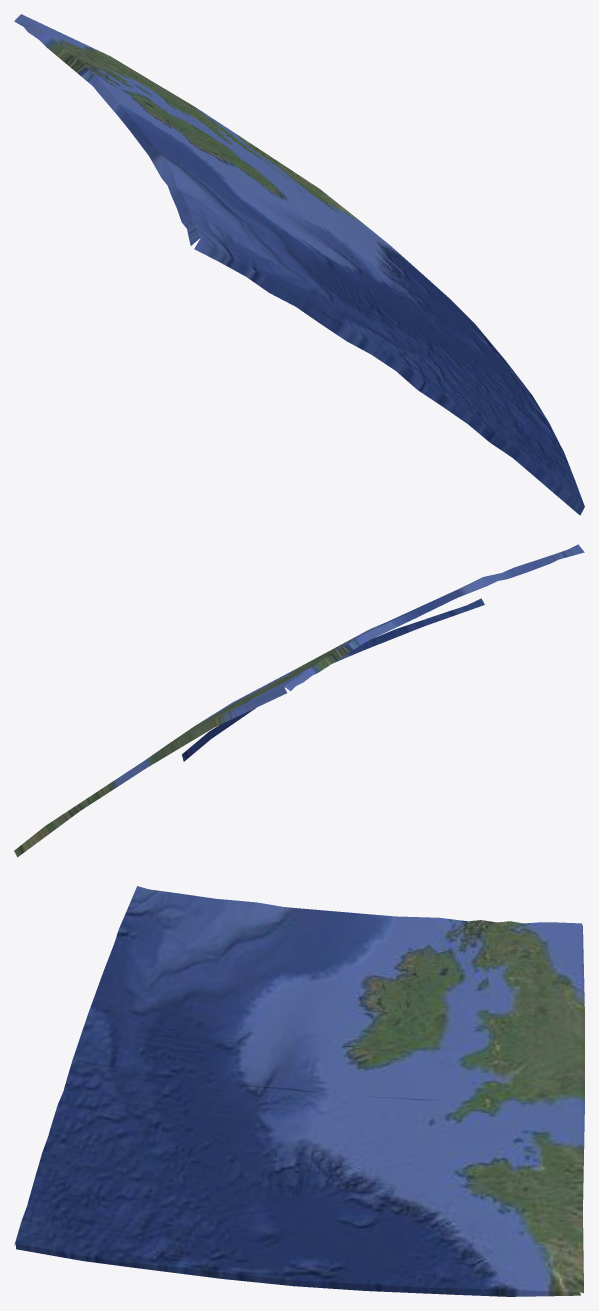
3 views of the same model, one above another, from view 1: azimuth 30°, elevation 25°; view 2: azimuth 150°, elevation 25°; view 3: azimuth 270°, elevation 25° (orthographic). The views are drawn at different scales.
Bounding box in the file's own units: 1269304 × 827523 × 1749711.
1 material, 1 textured.
